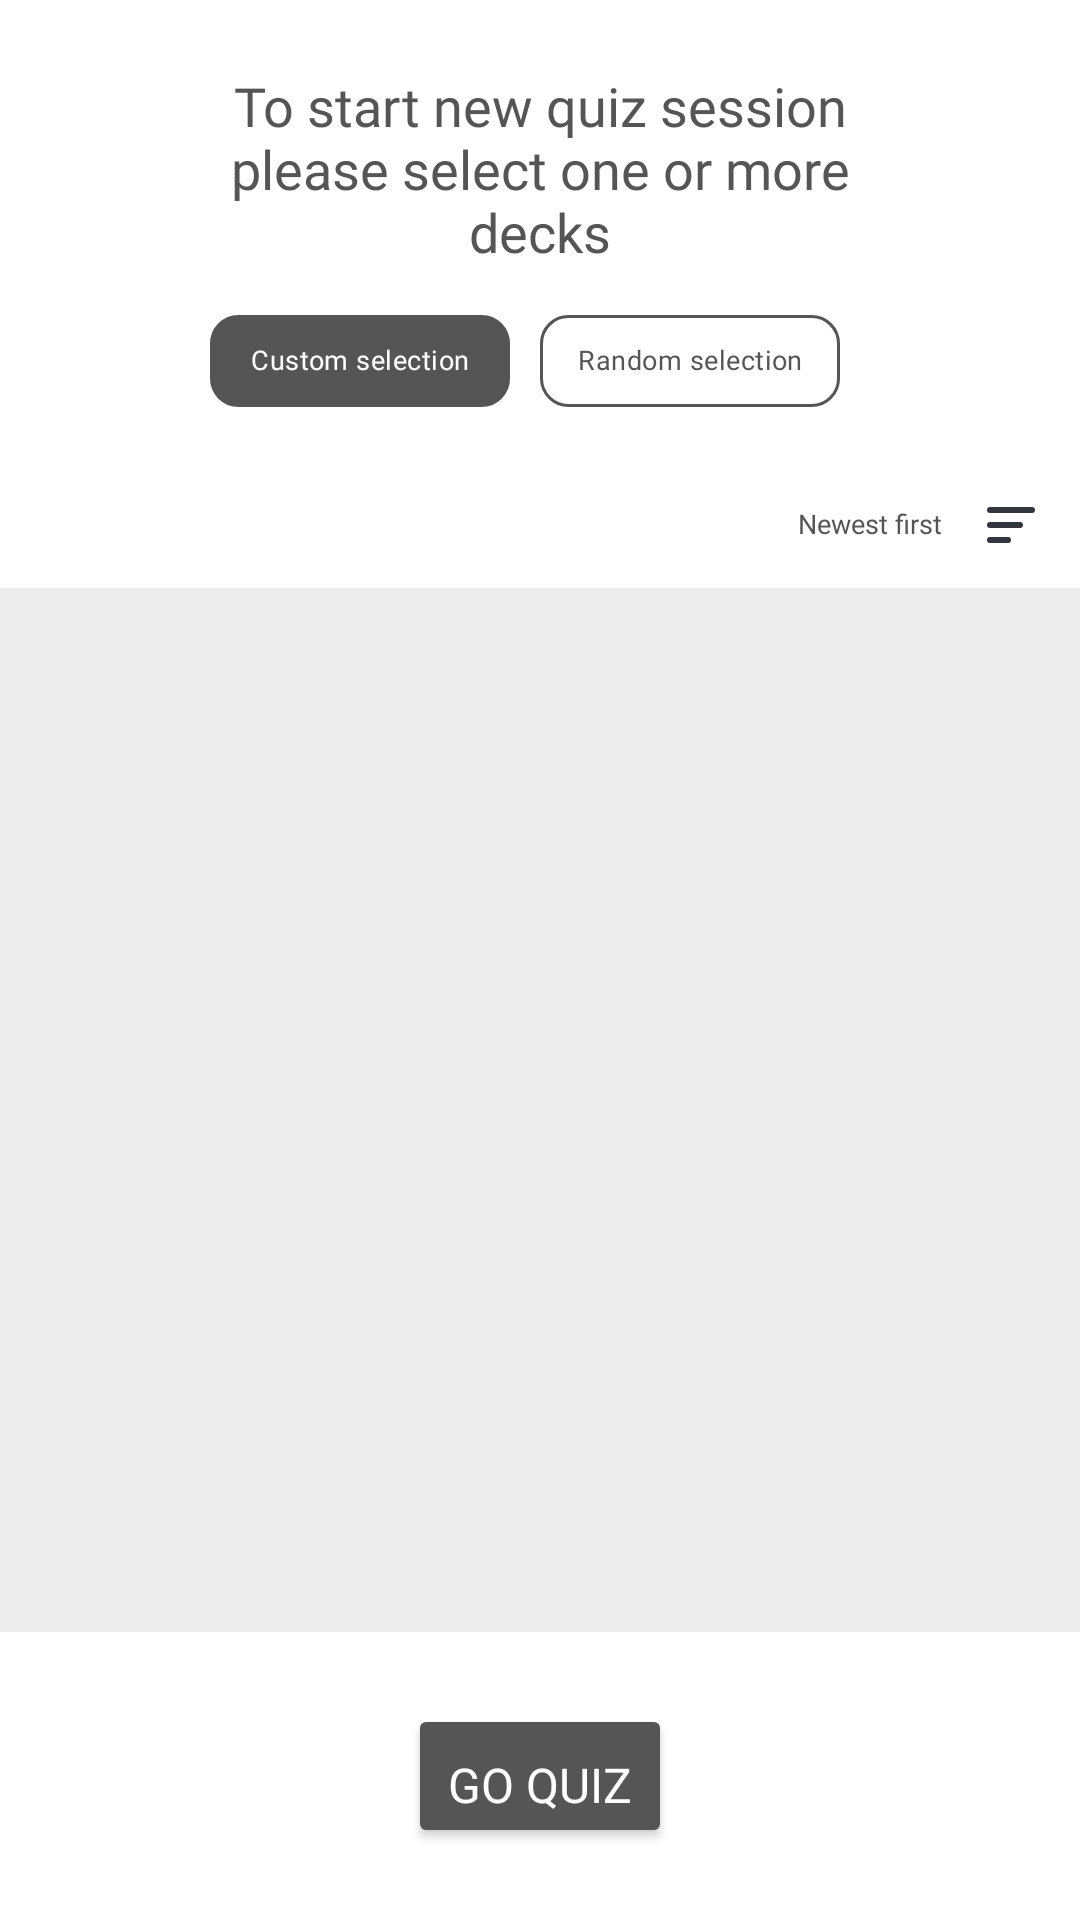

Screen size 1080w x 1920h. Icon name, then its box in pixels as (x1, y1, x2, y2):
Filter options icon: (987, 507, 1035, 543)
